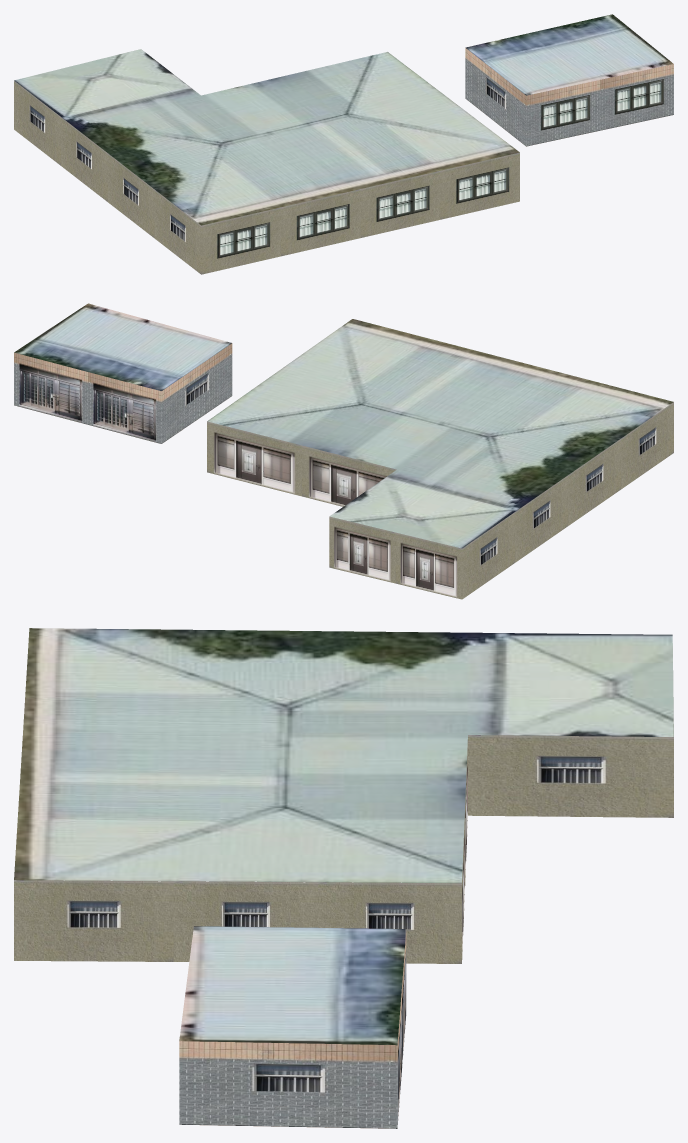
Rendered from tile_LOD8_r0_c3.glb.
3 views of the same model, one above another, from view 1: azimuth 30°, elevation 25°; view 2: azimuth 150°, elevation 25°; view 3: azimuth 270°, elevation 25° (orthographic). The views are drawn at different scales.
Size of the model in its own units: 39.09 by 3.63 by 25.96.
Materials: 8 (8 with a texture image).
